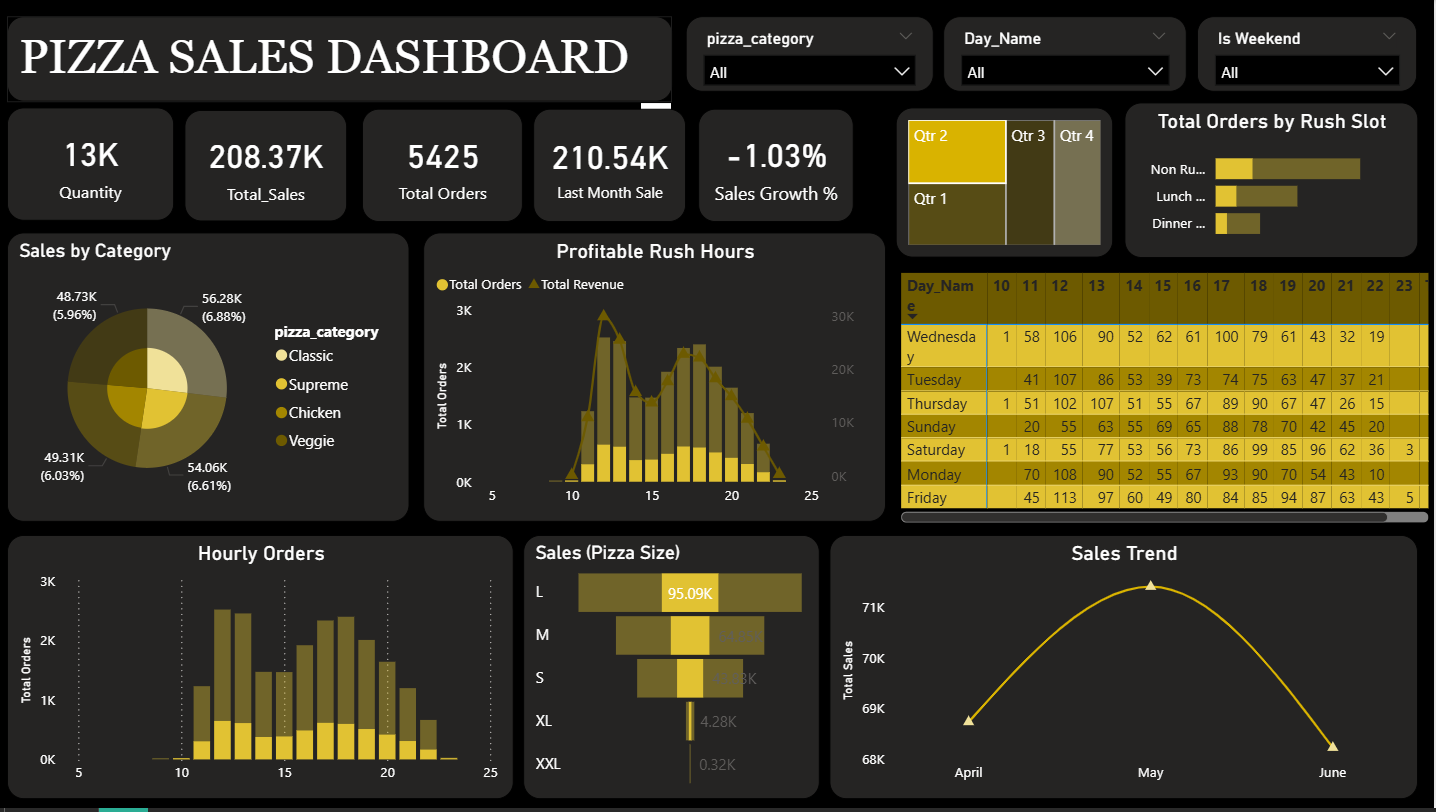

The page's visual inventory and layout, read from the dashboard file:
{"tool":"powerbi","page":{"name":"Page 1","canvas":[1280,720],"ordinal":0},"visuals":[{"type":"textbox","box":[8.6,14.7,592.6,76.1],"z":0},{"type":"lineChart","title":"Sales Trend","fields":{"Category":["Date Table.Date.Variation.Date Hierarchy.Month"],"Y":["pizza_sales.Total Revenue"]},"box":[741.1,476.1,523.9,235.6],"z":1000},{"type":"treemap","fields":{"Group":["Date Table.Date.Variation.Date Hierarchy.Quarter"],"Values":["pizza_sales.Total Revenue"]},"box":[800,95.7,193.9,133.7],"z":2000},{"type":"pieChart","title":"Sales by Category","fields":{"Category":["pizza_sales.pizza_category"],"Y":["Sum(pizza_sales.total_price)"]},"box":[18.4,207.4,348.5,257.7],"z":3000},{"type":"card","fields":{"Values":["Sum(pizza_sales.total_price)"]},"box":[166.9,98.2,144.8,99.4],"z":4000},{"type":"card","fields":{"Values":["Sum(pizza_sales.quantity)"]},"box":[8.6,95.7,148.5,100.6],"z":5000},{"type":"card","fields":{"Values":["pizza_sales.Total Orders"]},"box":[325.2,96.9,143.6,100.6],"z":6000},{"type":"funnel","title":"Sales (Pizza Size)","fields":{"Y":["Sum(pizza_sales.total_price)"],"Category":["pizza_sales.pizza_size"]},"box":[477.3,476.1,246.6,235.6],"z":7000},{"type":"slicer","title":"Pizza Size","fields":{"Values":["pizza_sales.pizza_category"]},"box":[613.5,14.7,220.9,67.5],"z":8000},{"type":"pivotTable","fields":{"Rows":["pizza_sales.Day_Name"],"Columns":["pizza_sales.Hour"],"Values":["pizza_sales.Total Orders"]},"box":[800,238,479.8,231.9],"z":9000},{"type":"columnChart","title":"Hourly Orders","fields":{"Category":["pizza_sales.Hour"],"Y":["pizza_sales.Total Orders"]},"box":[18.4,476.1,441.7,235.6],"z":10000},{"type":"lineStackedColumnComboChart","title":"Profitable Rush Hours","fields":{"Category":["pizza_sales.Hour"],"Y":["pizza_sales.Total Orders"],"Y2":["pizza_sales.Total Revenue"]},"box":[379.1,207.4,412.3,257.7],"z":11000},{"type":"barChart","fields":{"Category":["pizza_sales.Run Slot"],"Y":["pizza_sales.Total Orders"]},"box":[1003.7,90.8,261.4,138.7],"z":12000},{"type":"slicer","title":"Pizza Size","fields":{"Values":["pizza_sales.Day_Name"]},"box":[842.9,14.7,217.2,67.5],"z":13000},{"type":"slicer","title":"Pizza Size","fields":{"Values":["pizza_sales.Is Weekend"]},"box":[1068.7,14.7,196.3,67.5],"z":14000},{"type":"card","fields":{"Values":["Date Table.Sales Growth %"]},"box":[624.5,96.9,138.7,100.6],"z":14001},{"type":"card","fields":{"Values":["Date Table.Previous Month Revenue"]},"box":[477.3,96.9,136.2,100.6],"z":14002}]}

Visuals, with their boxes in screenshot pixels (x1, y1, x2, y2), scaled from the page's 1280x720 canvas onto the 1436x812 screenshot:
textbox: <bbox>10, 17, 674, 102</bbox>
"Sales Trend" lineChart: <bbox>831, 537, 1419, 803</bbox>
treemap - Date Table.Date.Variation.Date Hierarchy.Quarter x pizza_sales.Total Revenue: <bbox>898, 108, 1115, 259</bbox>
"Sales by Category" pieChart: <bbox>21, 234, 412, 525</bbox>
card - Sum(pizza_sales.total_price): <bbox>187, 111, 350, 223</bbox>
card - Sum(pizza_sales.quantity): <bbox>10, 108, 176, 221</bbox>
card - pizza_sales.Total Orders: <bbox>365, 109, 526, 223</bbox>
"Sales (Pizza Size)" funnel: <bbox>535, 537, 812, 803</bbox>
"Pizza Size" slicer: <bbox>688, 17, 936, 93</bbox>
pivotTable - pizza_sales.Day_Name x pizza_sales.Hour: <bbox>898, 268, 1435, 530</bbox>
"Hourly Orders" columnChart: <bbox>21, 537, 516, 803</bbox>
"Profitable Rush Hours" lineStackedColumnComboChart: <bbox>425, 234, 888, 525</bbox>
barChart - pizza_sales.Run Slot x pizza_sales.Total Orders: <bbox>1126, 102, 1419, 259</bbox>
"Pizza Size" slicer: <bbox>946, 17, 1189, 93</bbox>
"Pizza Size" slicer: <bbox>1199, 17, 1419, 93</bbox>
card - Date Table.Sales Growth %: <bbox>701, 109, 856, 223</bbox>
card - Date Table.Previous Month Revenue: <bbox>535, 109, 688, 223</bbox>
